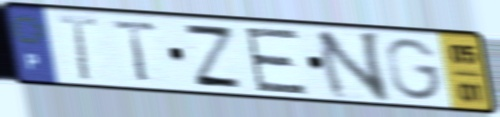E: (242, 26, 312, 97)
G: (382, 36, 446, 103)
N: (311, 30, 393, 103)
T: (109, 18, 161, 84), (54, 12, 102, 83)
Z: (179, 21, 248, 91)
